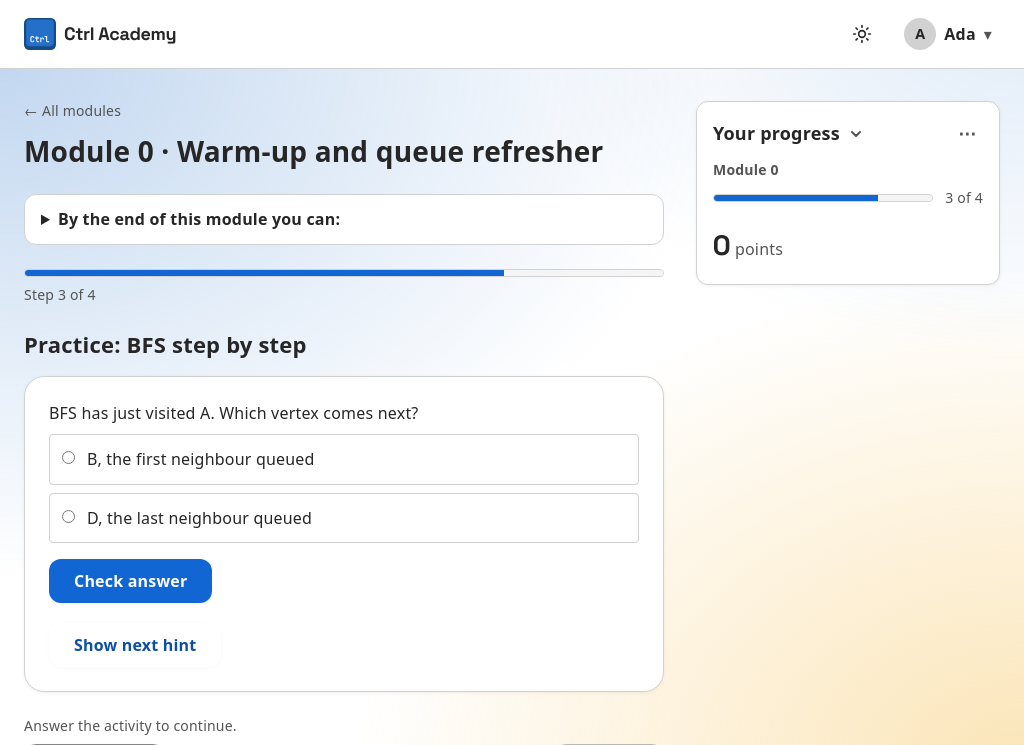
ModulePage — activity segment › keeps Next disabled until the activity is answered correctly, then moves on
Expected: the text "BFS has just visited A. Which vertex comes next?" is shown, [49,401,418,426]
Click the radio button labelled "B, the first neighbour queued" at (68, 457), box [62,451,75,464]
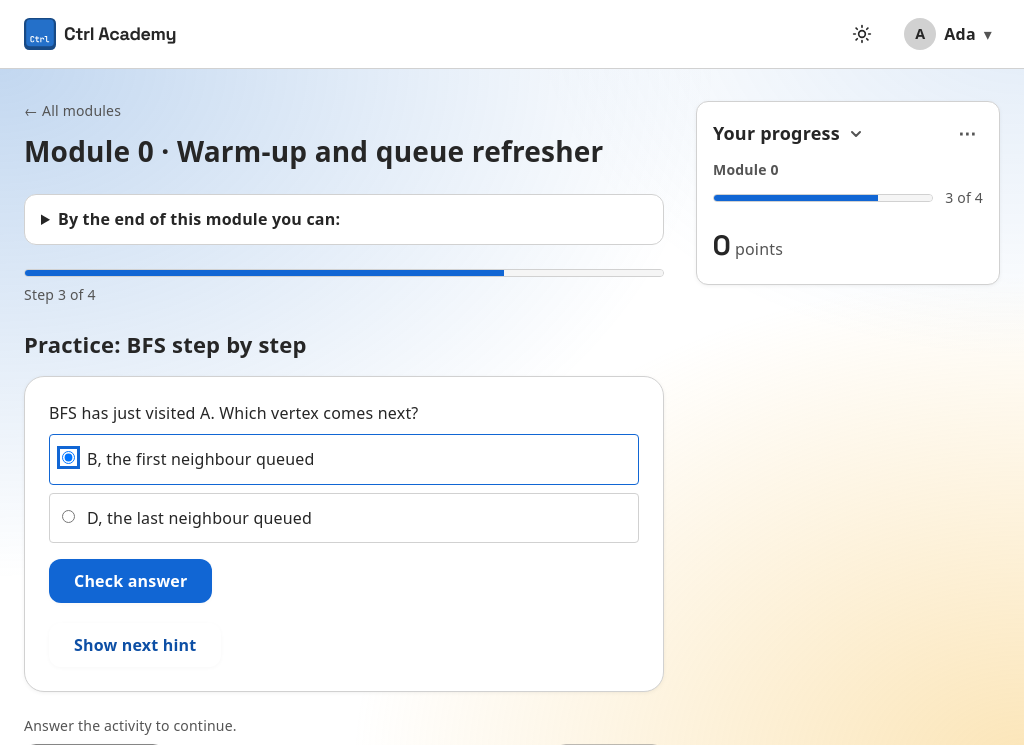
Click the button "Check answer" at (131, 581), box [49,559,212,603]
(page scrolled)
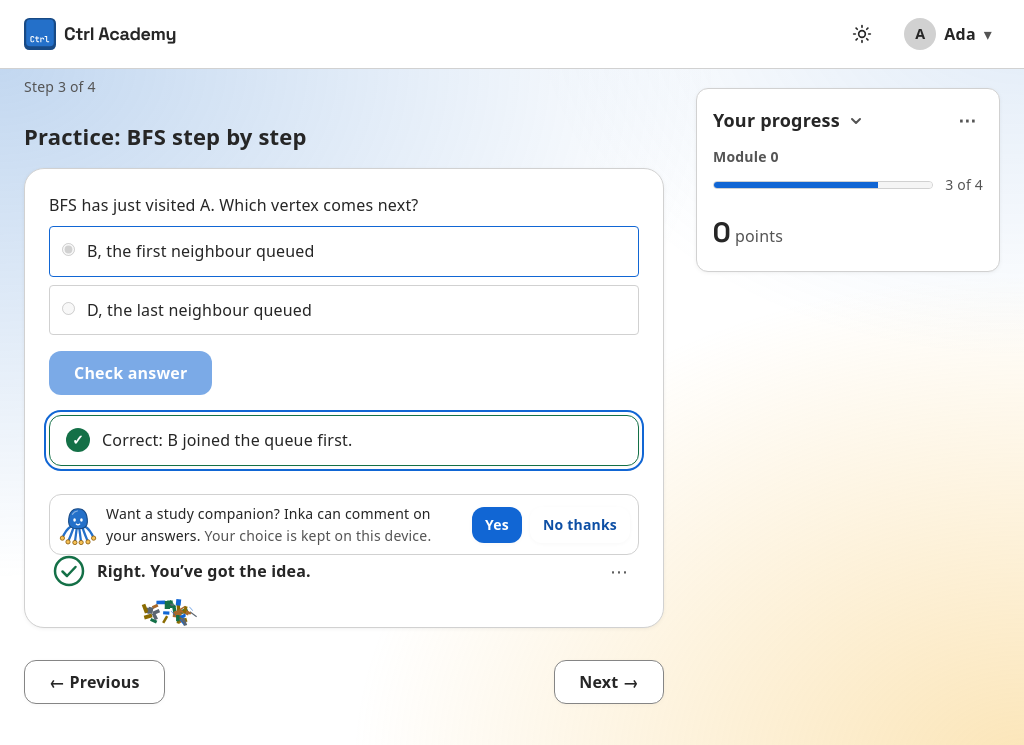
Now the text "Correct: B joined the queue first." is shown, box [102,428,352,453]
Click the button "Next →" at (609, 682), box [554,660,664,704]
(page scrolled)
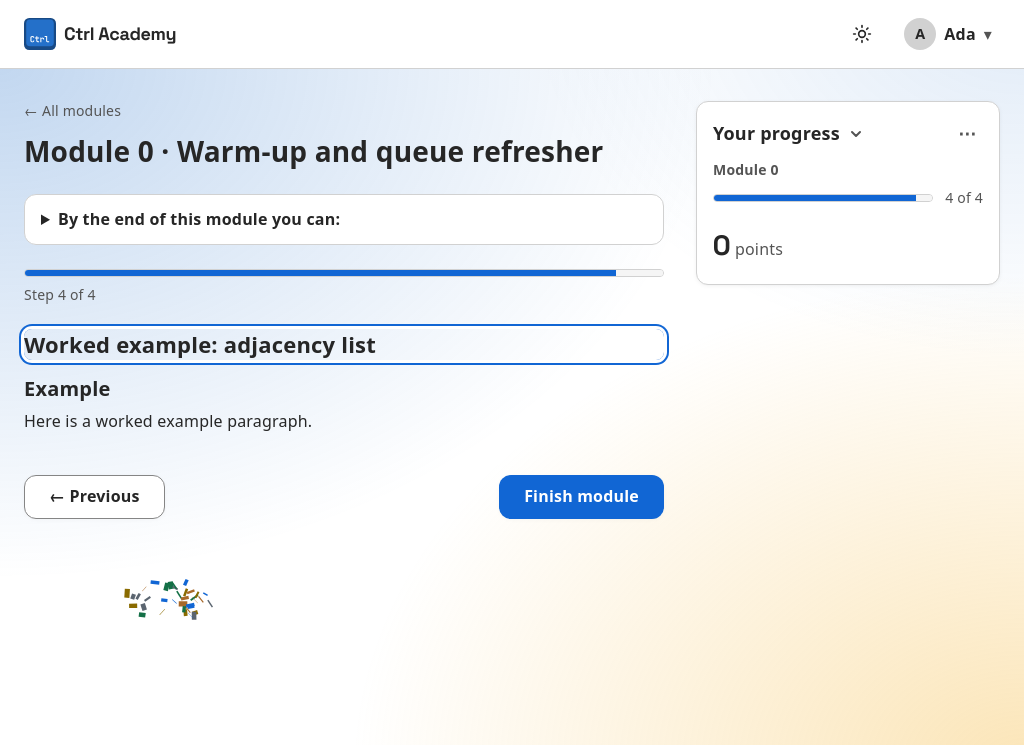
Now the heading "Worked example: adjacency list" is shown, box [24,329,664,360]
